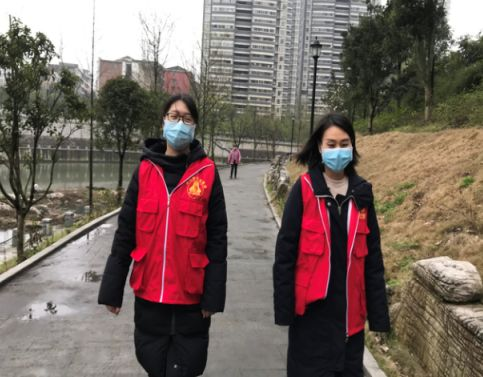mask: (162, 101, 200, 155), (321, 126, 356, 174)
